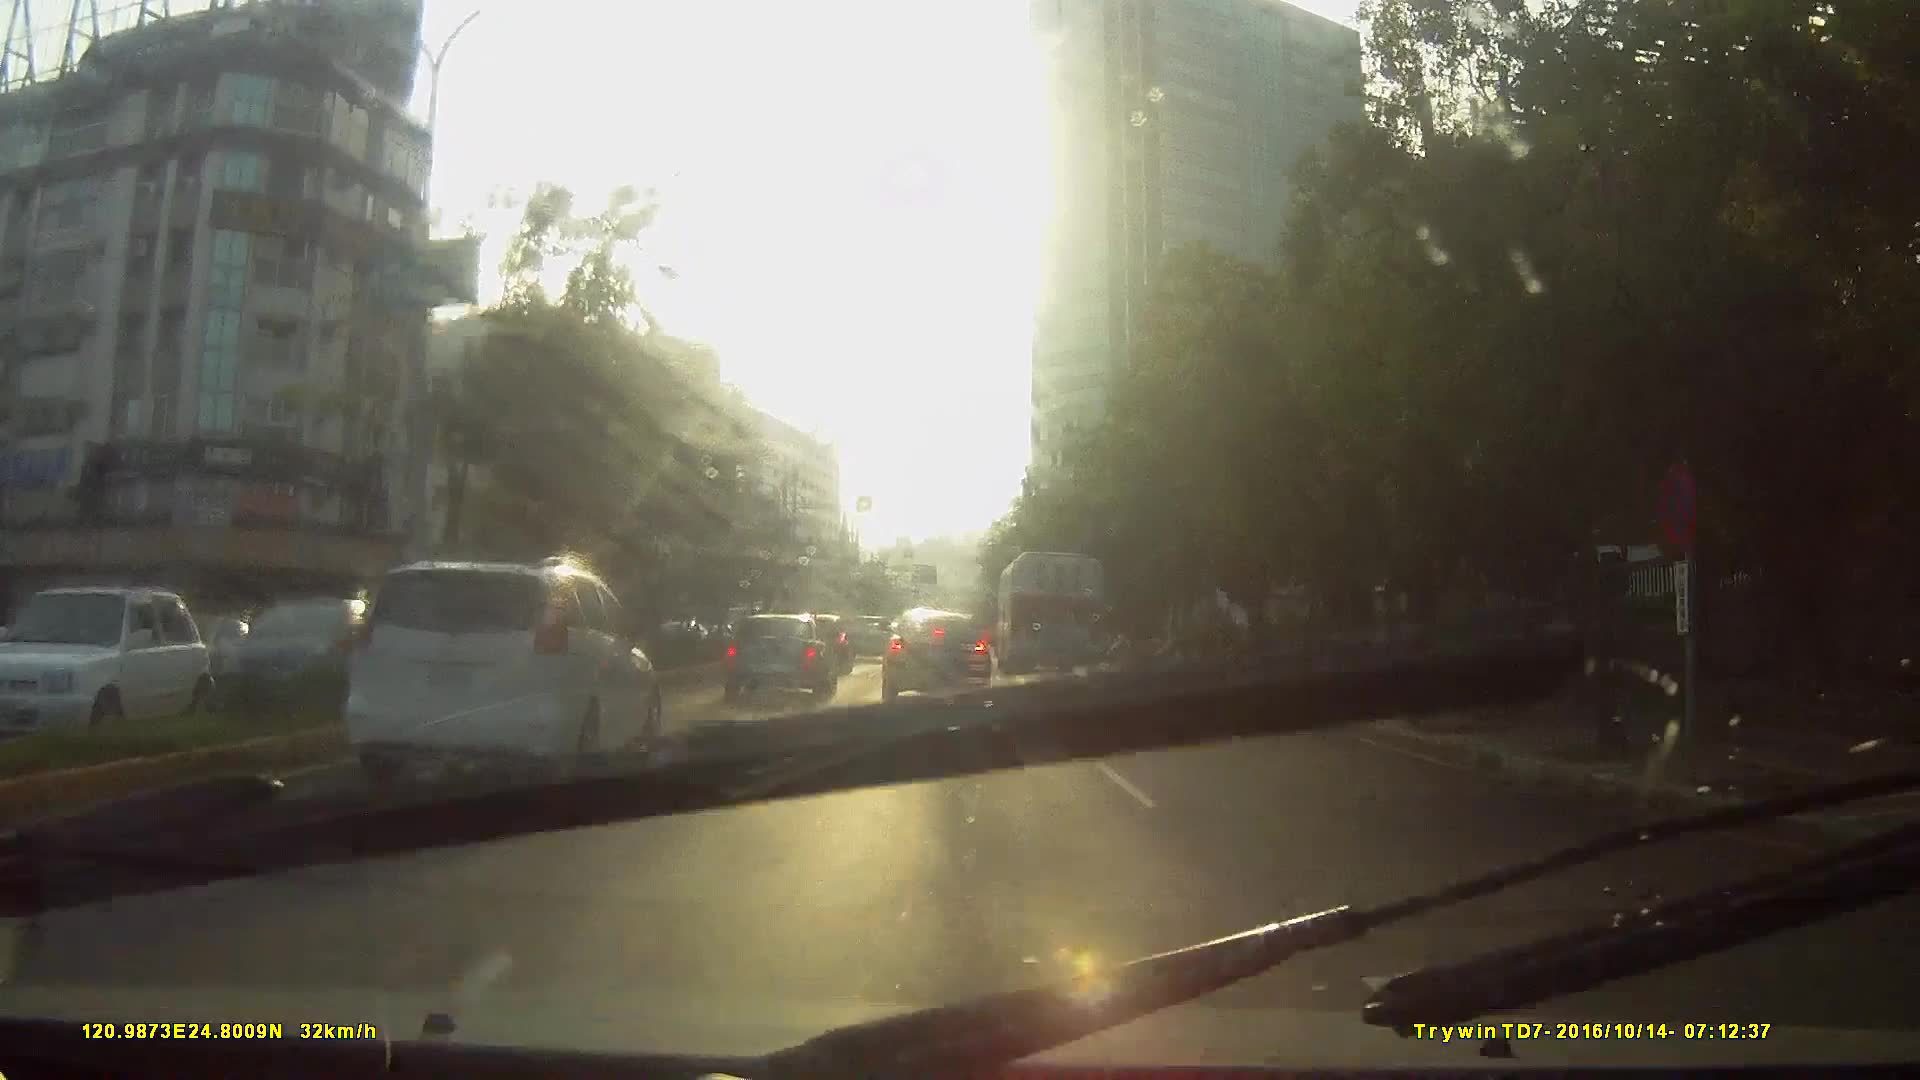vehicle: (251, 556, 684, 868), (335, 554, 659, 794), (5, 582, 245, 765), (216, 599, 390, 713), (998, 549, 1108, 680), (878, 605, 993, 708), (719, 609, 837, 702), (847, 615, 893, 665)
